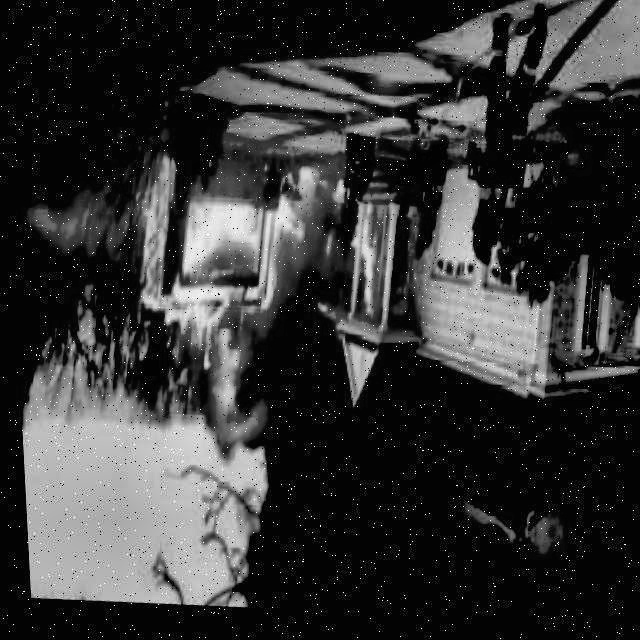Fire: (122, 143, 292, 378), (189, 360, 280, 459), (336, 212, 384, 341), (273, 166, 323, 251), (311, 178, 347, 273)
